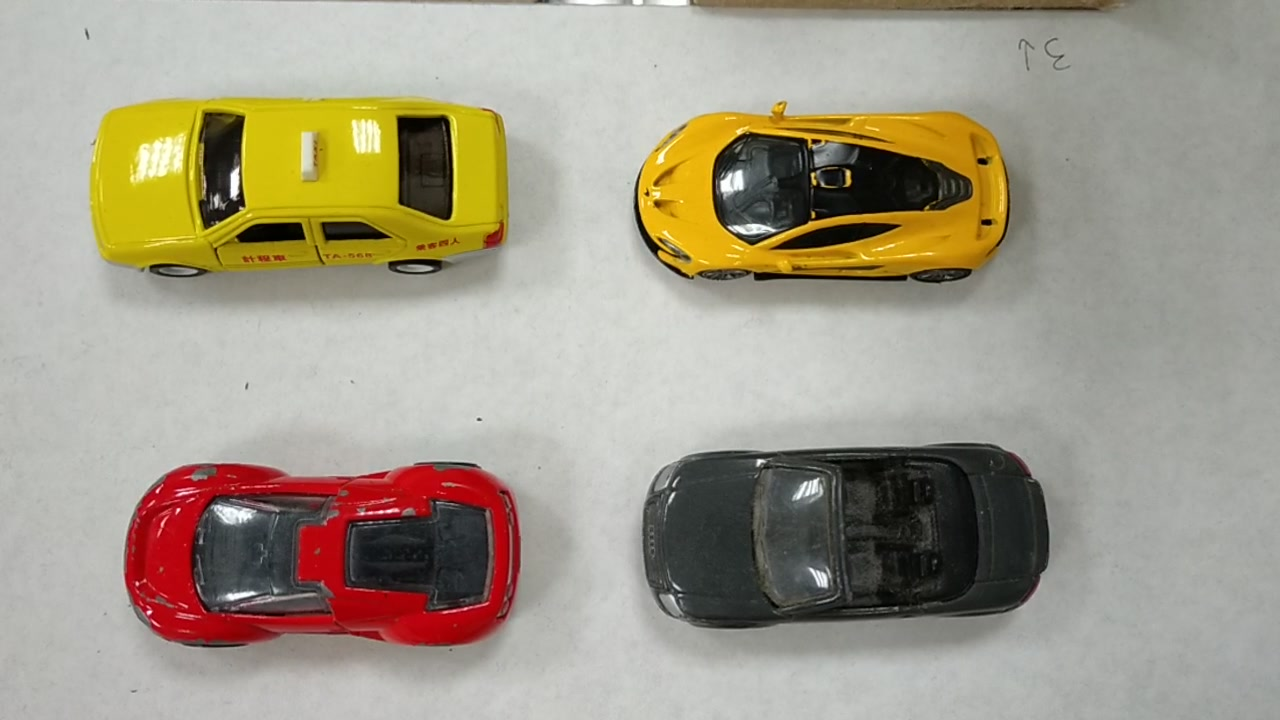car: (112, 454, 521, 661), (84, 97, 517, 270), (630, 103, 1013, 289), (630, 450, 1048, 619)
